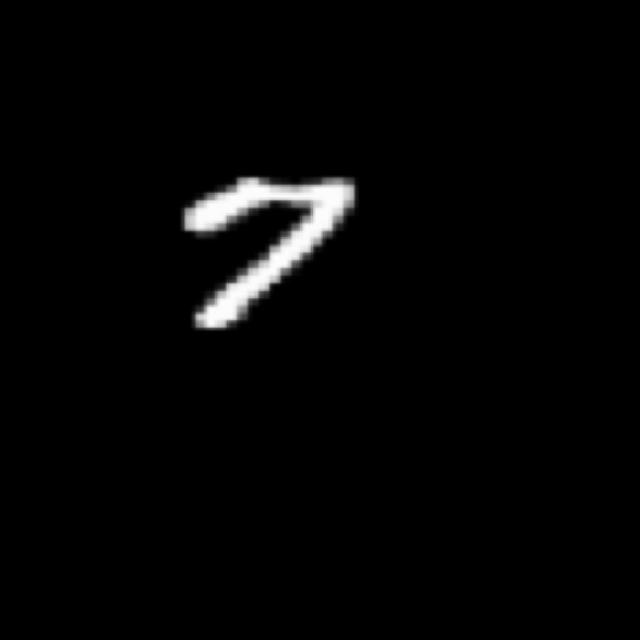seven -7-: (164, 172, 368, 340)
